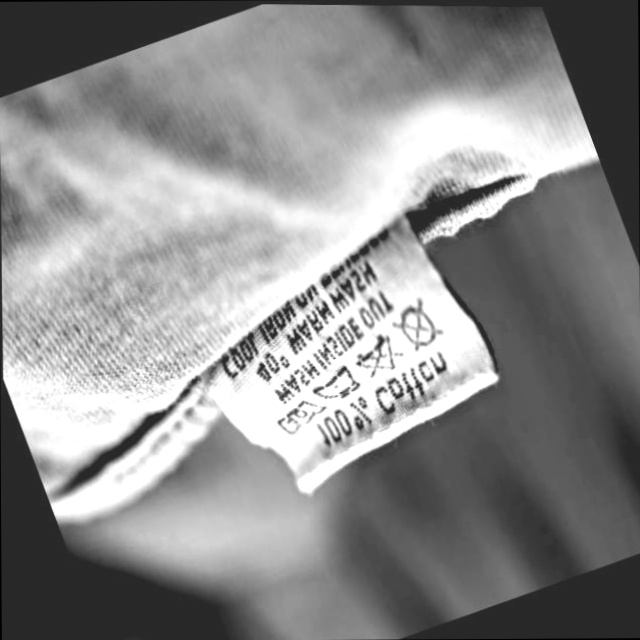40C: (279, 397, 328, 436)
DN_bleach: (356, 333, 400, 379)
DN_dry_clean: (398, 299, 448, 355)
iron_low: (316, 360, 363, 406)
